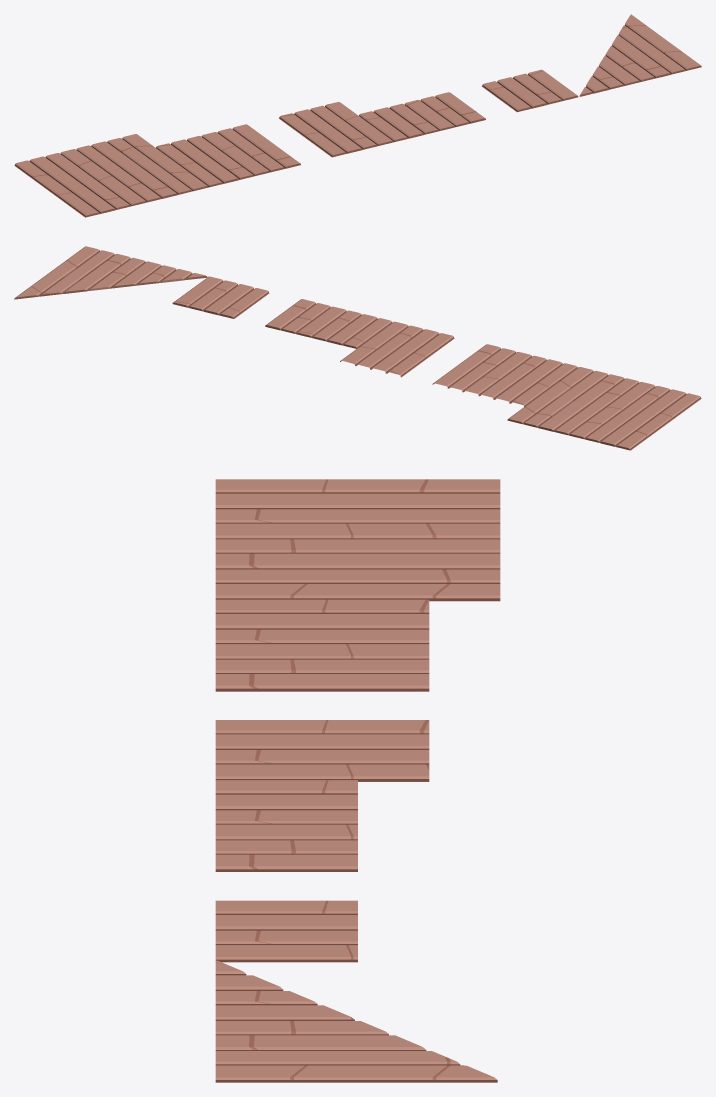
The model's file is AllsmallerFloors.fbx.
3 renders of one model, top to bottom at view 1: azimuth 30°, elevation 25°; view 2: azimuth 150°, elevation 25°; view 3: azimuth 270°, elevation 25°, orthographic. The views are drawn at different scales.
Visible parts, largest first — view 1: NewFloor_2m, NewFloor_1.5m.001, NewFloor_2m.001, NewFloor_1.5m.002, NewFloor_1.5m, NewFloor_1m; view 2: NewFloor_2m, NewFloor_1.5m.001, NewFloor_2m.001, NewFloor_1.5m.002, NewFloor_1.5m, NewFloor_1m; view 3: NewFloor_2m, NewFloor_1.5m.001, NewFloor_2m.001, NewFloor_1.5m.002, NewFloor_1.5m, NewFloor_1m.
Boxes of the visible parts, x1=… form: NewFloor_2m: x1=14, y1=134, x2=208, y2=217; NewFloor_1.5m.001: x1=156, y1=124, x2=300, y2=187; NewFloor_2m.001: x1=579, y1=14, x2=701, y2=96; NewFloor_1.5m.002: x1=359, y1=92, x2=485, y2=142; NewFloor_1.5m: x1=279, y1=102, x2=393, y2=157; NewFloor_1m: x1=481, y1=69, x2=578, y2=112; NewFloor_2m: x1=507, y1=367, x2=701, y2=450; NewFloor_1.5m.001: x1=432, y1=344, x2=577, y2=406; NewFloor_2m.001: x1=14, y1=246, x2=207, y2=299; NewFloor_1.5m.002: x1=265, y1=299, x2=392, y2=348; NewFloor_1.5m: x1=340, y1=321, x2=454, y2=377; NewFloor_1m: x1=172, y1=276, x2=269, y2=318; NewFloor_2m: x1=215, y1=479, x2=500, y2=601; NewFloor_1.5m.001: x1=215, y1=599, x2=429, y2=691; NewFloor_2m.001: x1=215, y1=960, x2=497, y2=1082; NewFloor_1.5m.002: x1=215, y1=780, x2=357, y2=871; NewFloor_1.5m: x1=215, y1=720, x2=429, y2=781; NewFloor_1m: x1=215, y1=900, x2=357, y2=962.
Bounding box in the file's own units: 1000 × 3.3 × 200.
